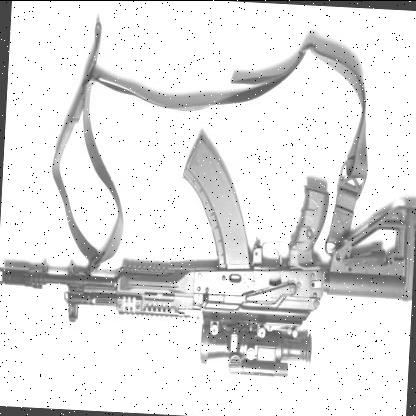rifle: (0, 133, 416, 407)
